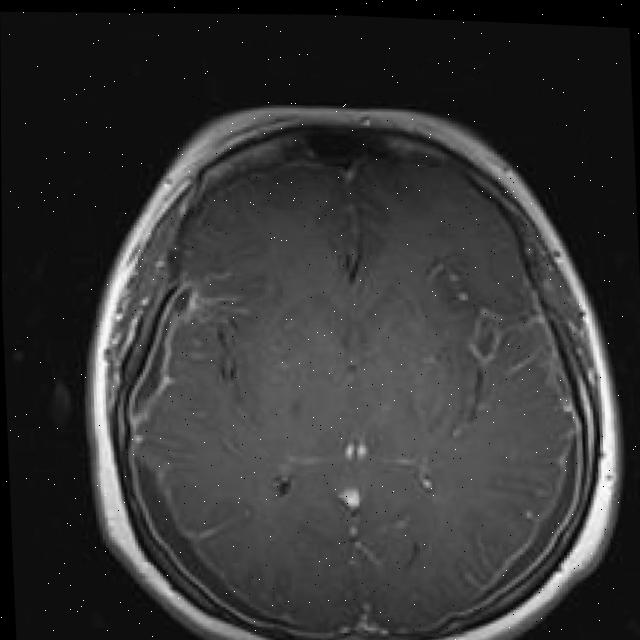NoTumor: (72, 80, 635, 640)
